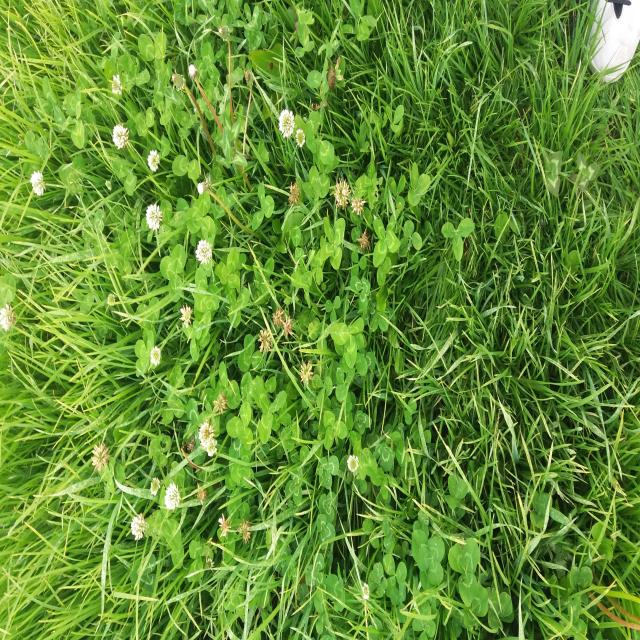Four Leaf Clover: (373, 209, 401, 267), (321, 217, 346, 270)
